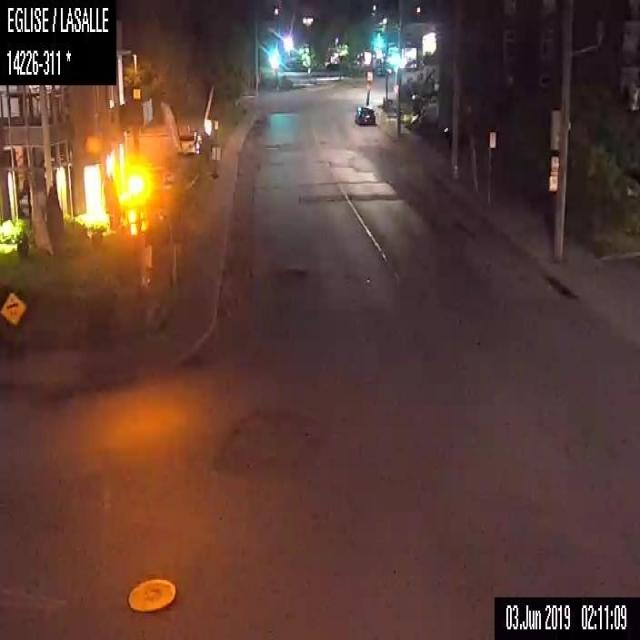vehicle: (175, 126, 201, 156), (354, 104, 376, 125)
